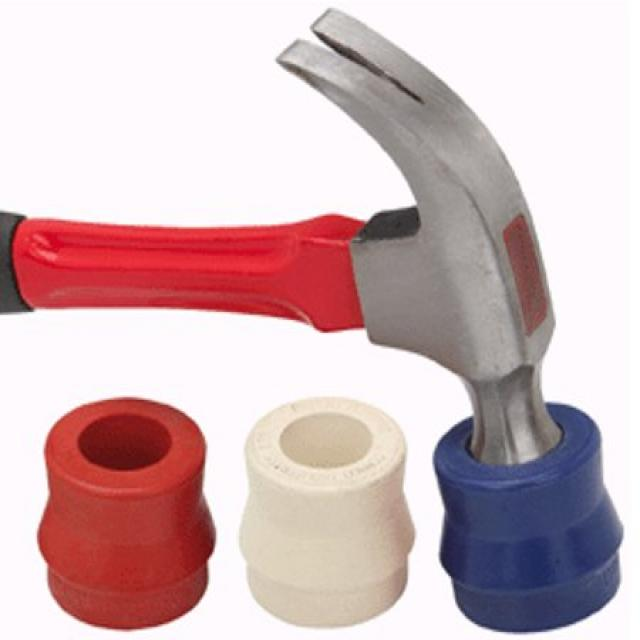Hammer: (0, 0, 572, 480)
